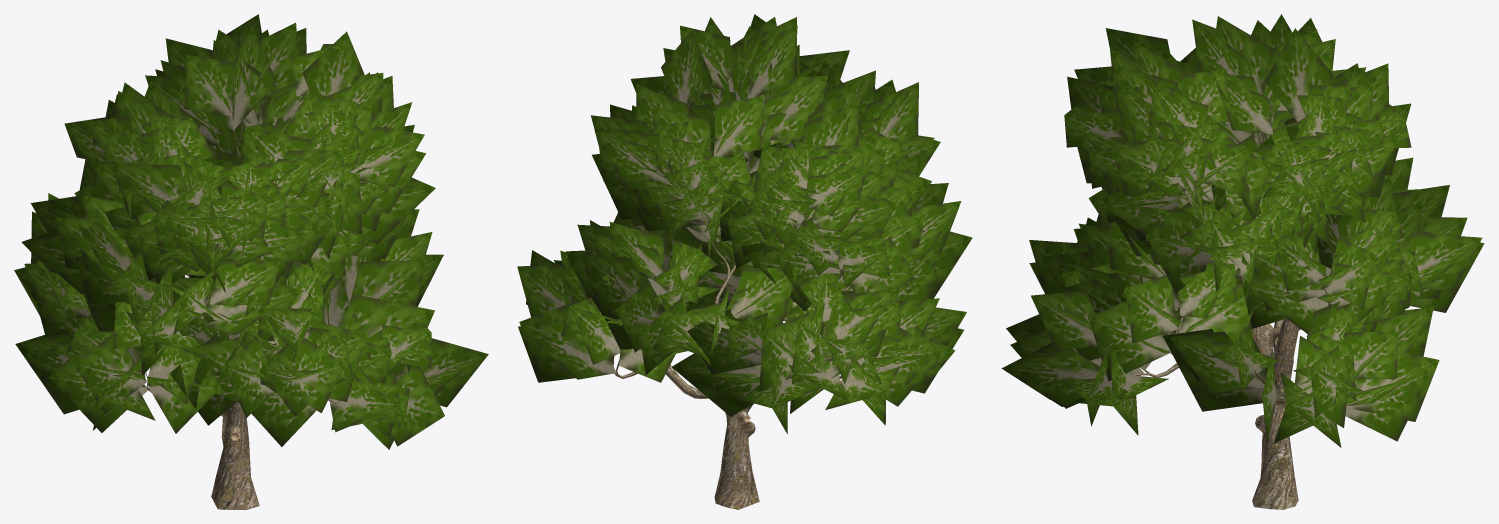
The model's file is Tree4_LOD2.fbx.
3 views of the same model, side by side, from view 1: azimuth 30°, elevation 25°; view 2: azimuth 150°, elevation 25°; view 3: azimuth 270°, elevation 25° (orthographic). The views are drawn at different scales.
Parts seen in each view (by area): view 1: oak leaf_2, mossybark02_0; view 2: oak leaf_2, mossybark02_0; view 3: oak leaf_2, mossybark02_0.
Boxes of the visible parts, box(x1,y1,x2,y2) form: oak leaf_2: box(14, 14, 488, 449); mossybark02_0: box(145, 107, 350, 509); oak leaf_2: box(517, 14, 972, 434); mossybark02_0: box(614, 90, 880, 509); oak leaf_2: box(1001, 14, 1484, 447); mossybark02_0: box(1134, 132, 1360, 509).
Size of the model in its own units: 1385 by 1483 by 1374.
Materials: 3 (3 with a texture image).
